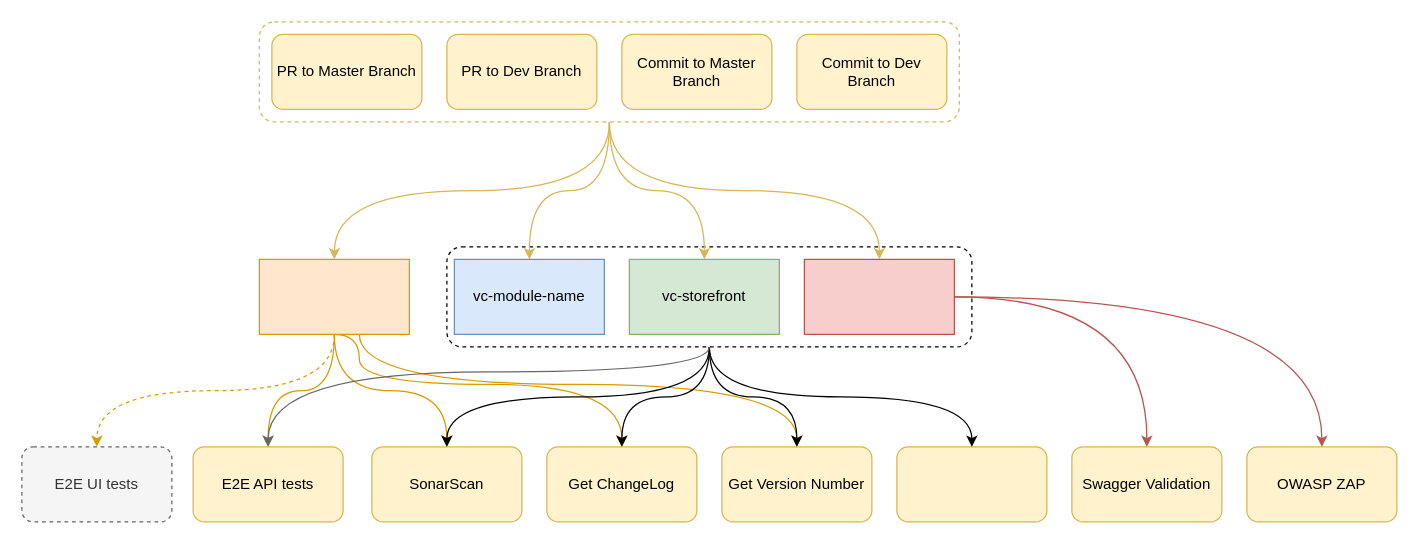
Some shapes in this 1419 by 544 pixel diagram are drawn without their labels. Here are the shapes that lost their labels. From the top down, the box of each, then its label:
(258, 258, 409, 334): vc-theme
(803, 258, 954, 334): vc-platform
(896, 446, 1047, 522): Unit Tests
